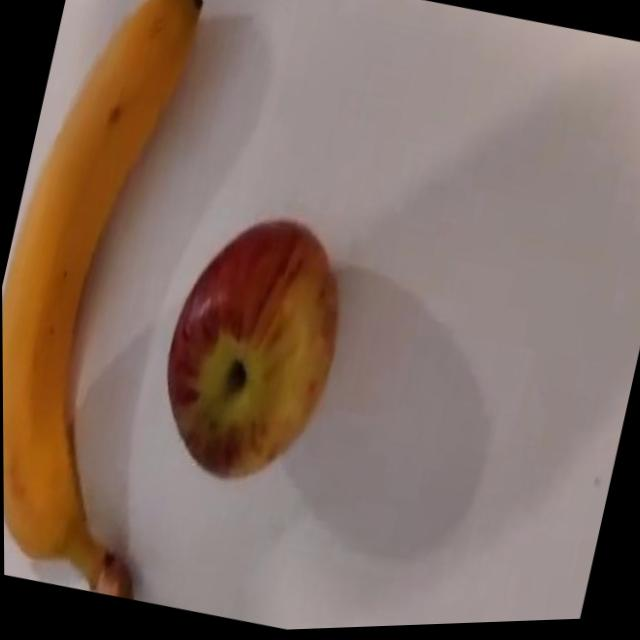Apple: (140, 195, 365, 506)
Banana: (0, 0, 221, 571)
